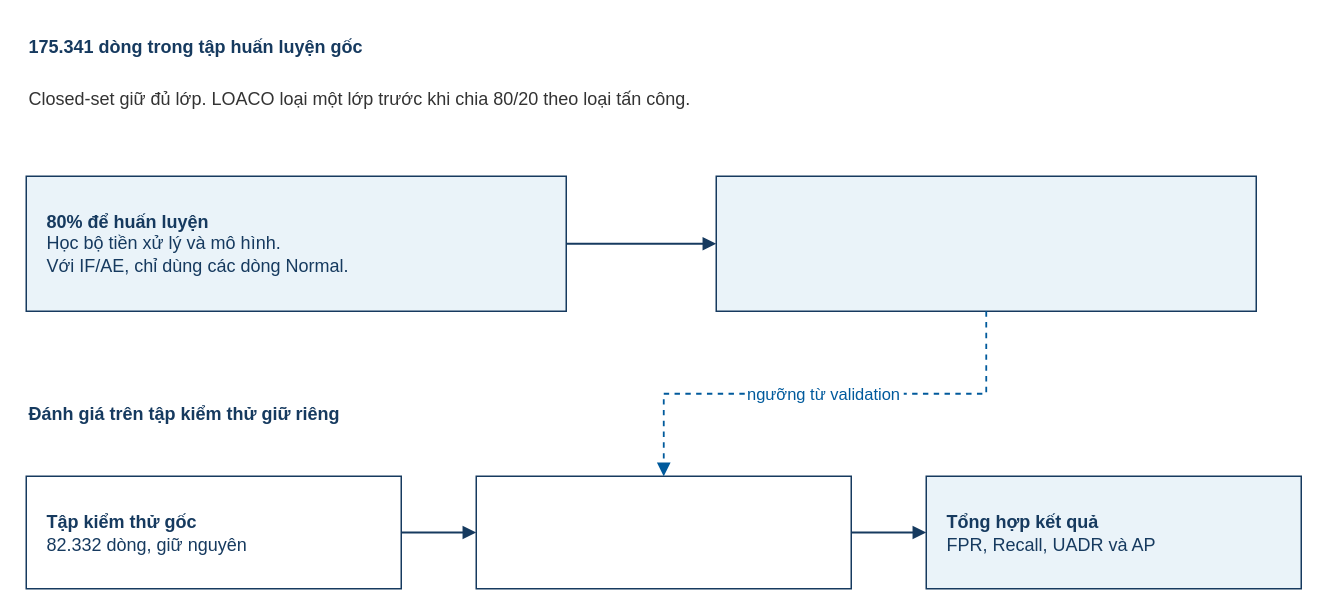
The diagram is 1328 pixels wide and 615 high, and some of its shapes have lost their labels. The centre of each missing label's shape, as x and y in pixels:
"20% để chọn ngưỡng Chấm các dòng Normal. Chọn ngưỡng FPR mục tiêu 1% và 5%." belongs at (985,243).
"Chấm tập kiểm thử Tính điểm rồi so với ngưỡng" belongs at (663,532).
